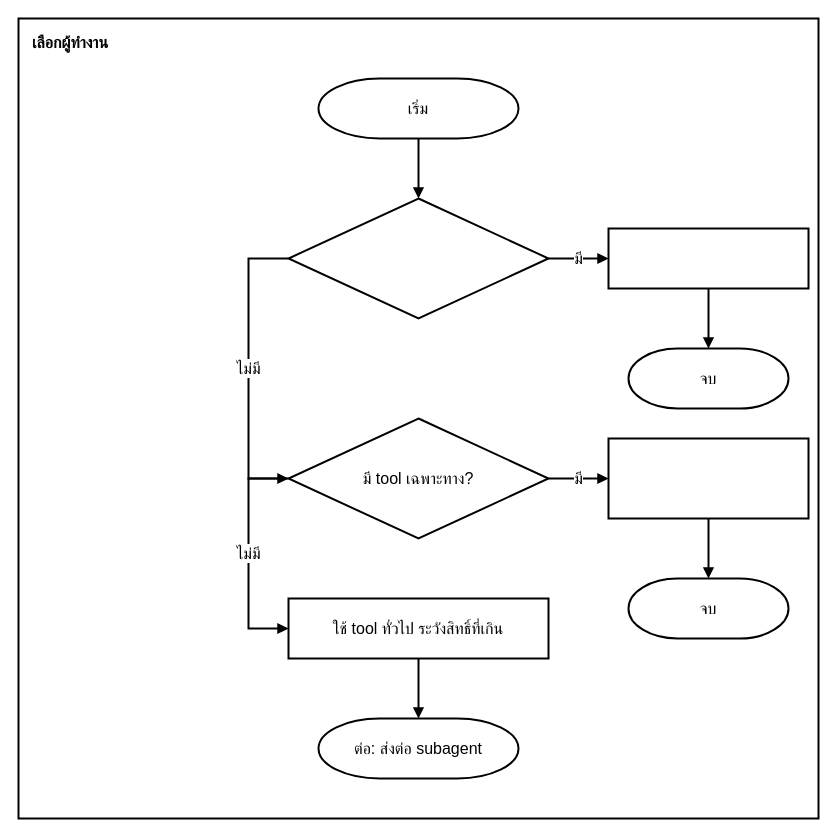
This 836x836 diagram has some shape labels left out. Each missing label, with the centre of its shape:
"มี skill ที่ trigger ตรง?" goes at pixel 418 258.
"ใช้ skill นั้น" goes at pixel 708 258.
"ใช้ tool นั้น งานหลายชิ้นหา bulk ก่อน" goes at pixel 708 478.
